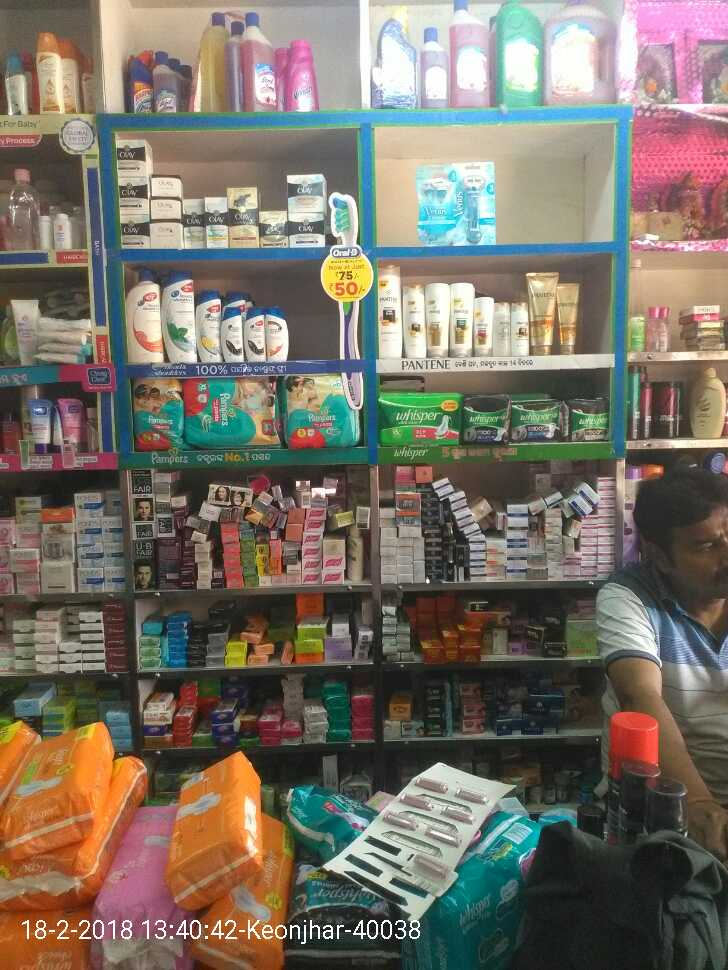gillete: (600, 719, 651, 849), (653, 785, 684, 830)
venus: (423, 160, 499, 245)
